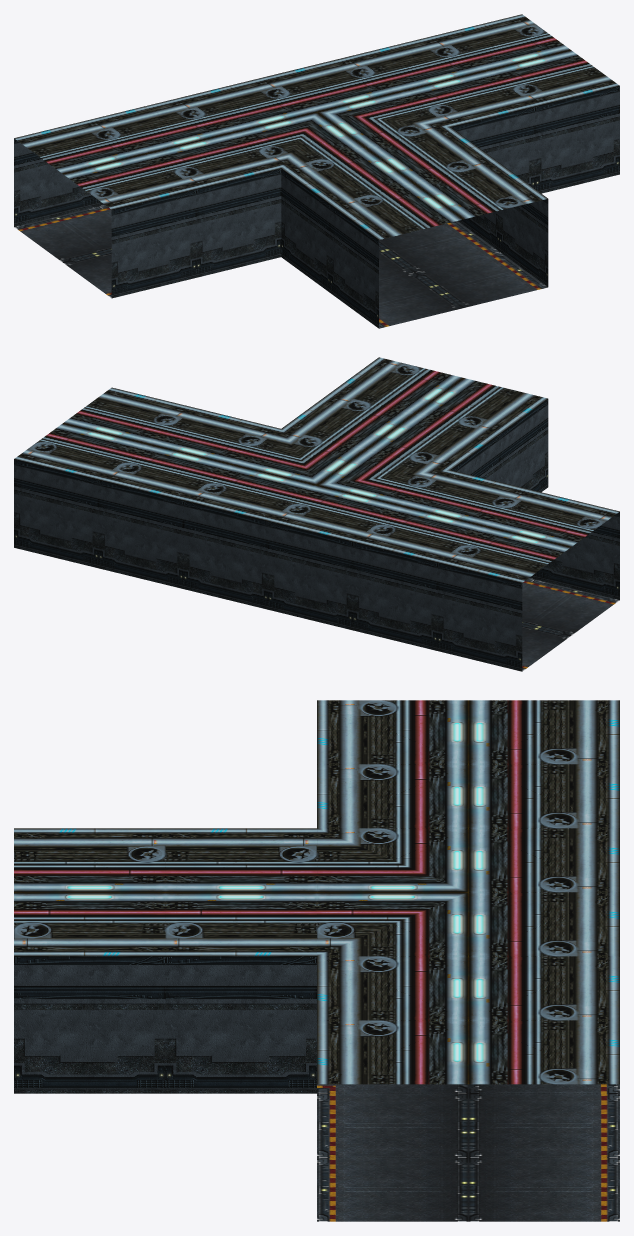
Rendered from pbtunn06.FBX.
The picture shows the model from 3 angles, top to bottom: view 1: azimuth 30°, elevation 25°; view 2: azimuth 150°, elevation 25°; view 3: azimuth 270°, elevation 25°; orthographic projection. The views are drawn at different scales.
Parts seen in each view (by area): view 1: pbtunn06; view 2: pbtunn06; view 3: pbtunn06.
Boxes of the visible parts, bbox=[...] form: pbtunn06: bbox=[14, 14, 619, 328]; pbtunn06: bbox=[14, 357, 619, 671]; pbtunn06: bbox=[14, 700, 619, 1221].
Size of what is drawn, in the model's own units: 96 by 64 by 16.
